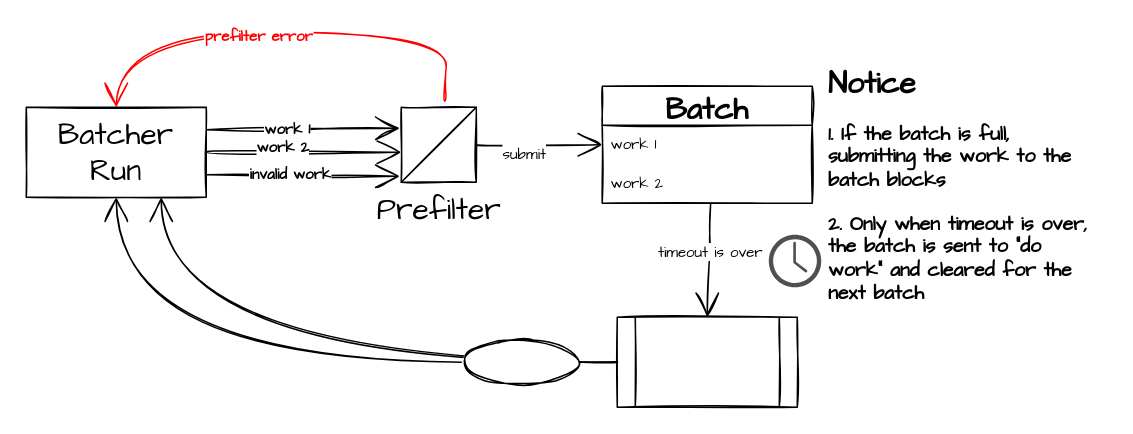
The diagram is 1133 pixels wide and 434 high, and some of its shapes have lost their labels. Here are the shapes that lost their labels. From the top down, the centre of each, then its label:
At point (520, 361): "batch result".
At point (706, 361): "do work".
